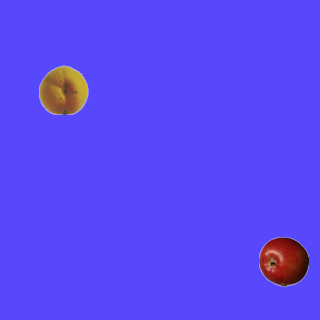Apple Braeburn: (258, 236, 308, 286)
Peach 2: (38, 64, 88, 114)
